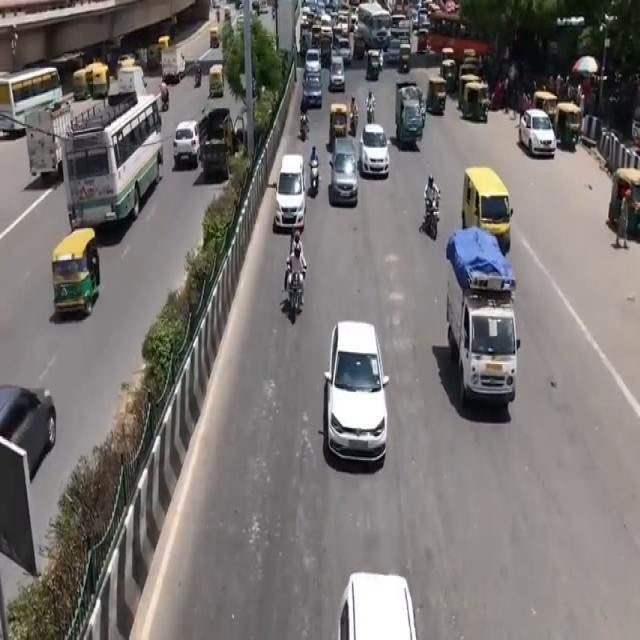BUS: (68, 67, 164, 240), (1, 68, 64, 138), (358, 3, 392, 50)
MOTORCYCLE: (288, 270, 302, 325), (426, 195, 440, 243)
TRUCK: (450, 230, 520, 423)
